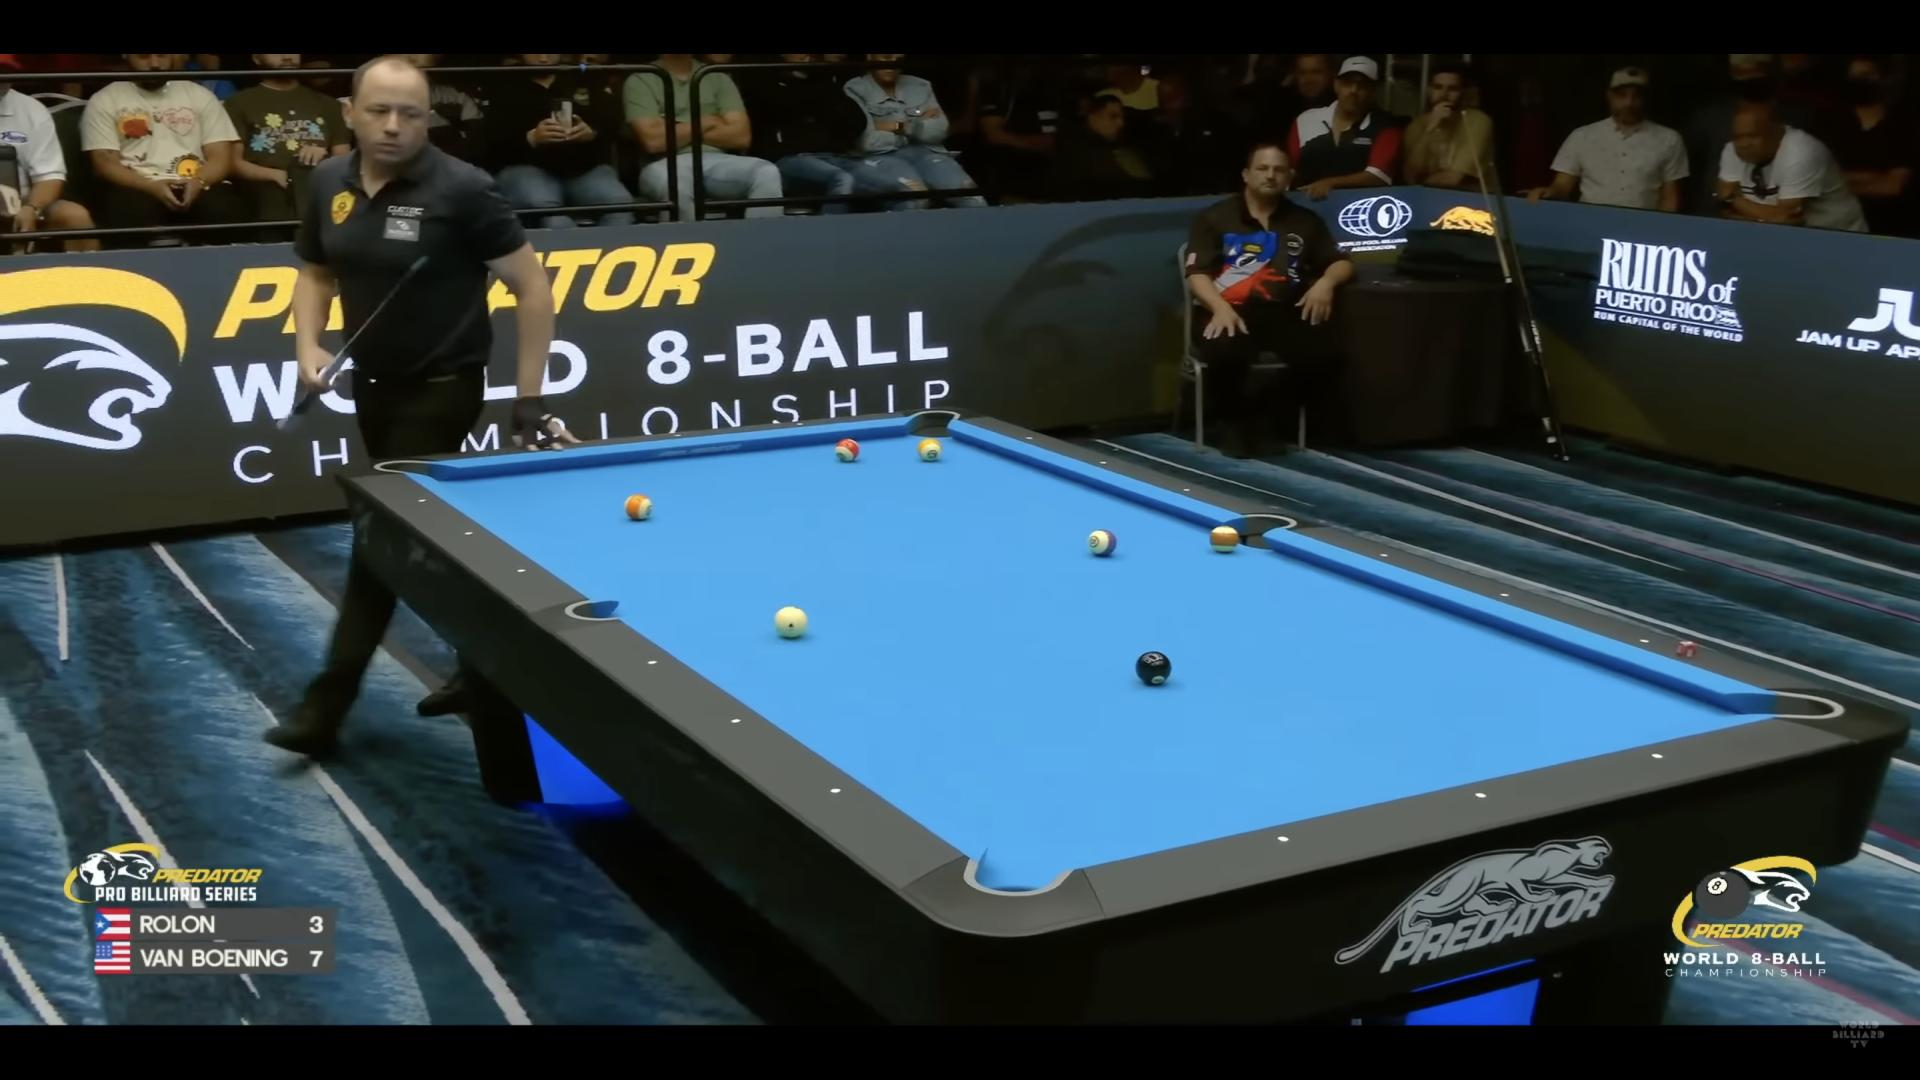Black: (1134, 651, 1171, 684)
Cue: (774, 607, 807, 638)
Dot: (646, 655, 659, 669), (1474, 789, 1489, 800), (829, 785, 844, 796), (728, 716, 742, 728), (1276, 833, 1290, 845), (1651, 750, 1664, 762), (1638, 636, 1650, 647), (1498, 589, 1510, 600), (1378, 550, 1390, 560), (516, 564, 526, 575), (463, 529, 473, 539), (418, 496, 427, 505), (1026, 434, 1034, 442), (674, 433, 683, 439), (543, 444, 551, 451), (796, 421, 804, 427), (1183, 487, 1191, 493), (1100, 460, 1108, 467)
Striped: (1088, 529, 1117, 556), (1211, 526, 1240, 553), (625, 495, 653, 520), (835, 438, 860, 462), (918, 439, 942, 462)
